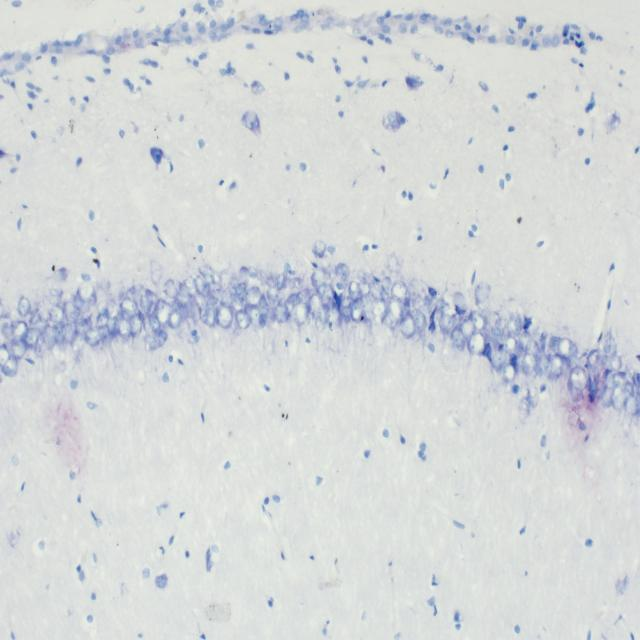neuron: (385, 295, 405, 326), (144, 326, 168, 351), (525, 339, 542, 370), (308, 293, 326, 321), (467, 331, 486, 357), (338, 289, 352, 324), (77, 282, 97, 306), (243, 302, 262, 327), (216, 303, 234, 329), (175, 315, 192, 342), (185, 297, 202, 324), (290, 302, 309, 326), (570, 366, 588, 391), (557, 338, 578, 359), (210, 283, 229, 306), (474, 280, 491, 305), (274, 296, 289, 324), (155, 298, 171, 324), (522, 352, 538, 378), (586, 348, 602, 374), (21, 326, 39, 349), (502, 332, 520, 355), (63, 300, 80, 324), (567, 379, 584, 403), (372, 298, 387, 325), (1, 355, 19, 377), (384, 252, 402, 274), (599, 336, 617, 358), (49, 303, 66, 326), (350, 298, 365, 324), (194, 275, 210, 299), (400, 314, 416, 338), (452, 292, 468, 316), (508, 315, 524, 339), (197, 264, 216, 284), (468, 311, 487, 331), (70, 328, 85, 353), (11, 338, 28, 360), (121, 296, 138, 318), (623, 394, 640, 416), (1, 321, 17, 344), (550, 353, 564, 379), (37, 298, 52, 322), (413, 296, 433, 314), (391, 280, 408, 301), (311, 268, 327, 290), (451, 326, 465, 351), (297, 287, 312, 310), (461, 318, 476, 341), (12, 320, 29, 340), (368, 280, 385, 300), (53, 321, 67, 345), (106, 314, 120, 338), (258, 293, 270, 321), (147, 313, 162, 335), (201, 306, 216, 328), (348, 280, 363, 302), (502, 361, 517, 383), (438, 314, 456, 332), (602, 382, 614, 409), (115, 318, 132, 337), (316, 283, 335, 300), (104, 300, 120, 320), (99, 324, 112, 348), (612, 386, 625, 410), (412, 308, 426, 330), (73, 296, 90, 314), (61, 322, 77, 341), (84, 327, 100, 346), (246, 286, 262, 305), (150, 260, 163, 283), (17, 296, 31, 317), (164, 278, 178, 299), (495, 317, 509, 338), (518, 331, 532, 352), (606, 355, 623, 372), (35, 333, 47, 357), (130, 314, 142, 338), (260, 270, 276, 288), (168, 310, 183, 329), (235, 310, 250, 329), (184, 276, 198, 296), (74, 317, 90, 334), (173, 291, 189, 308), (335, 262, 350, 280), (44, 324, 55, 348), (140, 294, 152, 316), (240, 266, 250, 292), (48, 282, 64, 298), (207, 296, 223, 312), (491, 352, 506, 369), (230, 293, 244, 311), (266, 286, 280, 304), (331, 303, 341, 328), (35, 317, 48, 336), (313, 239, 326, 258), (54, 266, 70, 281), (145, 287, 159, 304), (286, 292, 303, 306), (96, 311, 109, 329), (594, 381, 606, 400), (0, 302, 12, 320), (612, 373, 628, 386), (195, 292, 207, 309), (276, 272, 286, 291), (229, 272, 240, 289), (287, 277, 301, 290), (360, 280, 370, 298), (483, 321, 493, 339), (492, 326, 502, 344), (211, 272, 222, 288), (357, 269, 368, 285), (187, 333, 201, 345), (624, 381, 635, 396), (408, 284, 418, 300), (549, 336, 561, 349), (316, 316, 326, 331), (29, 311, 40, 324), (248, 266, 258, 280), (380, 276, 390, 290), (284, 262, 291, 280), (235, 285, 245, 297), (258, 314, 266, 329), (590, 381, 597, 394), (81, 272, 90, 282), (327, 245, 336, 255), (336, 282, 344, 290)
